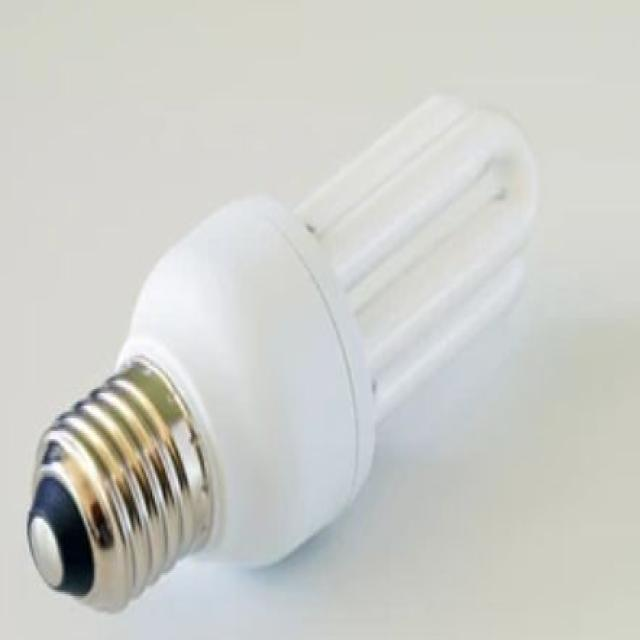electronic: (24, 90, 538, 613)
